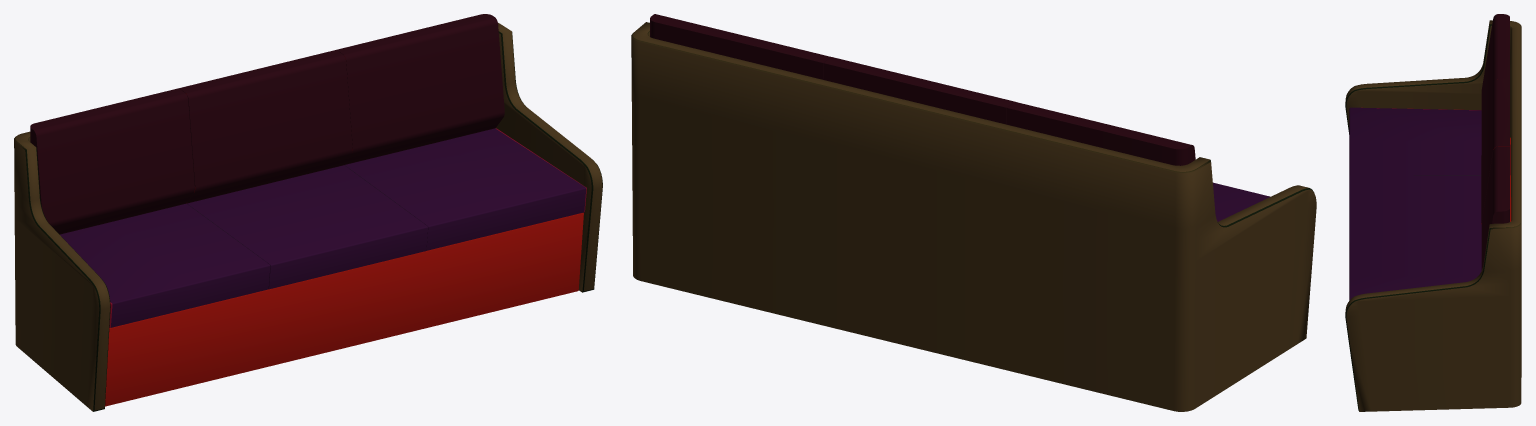
Rendered from sofa_waiting_room_1.glb.
The picture shows the model from 3 angles, left to right: view 1: azimuth 30°, elevation 25°; view 2: azimuth 150°, elevation 25°; view 3: azimuth 270°, elevation 25°; orthographic projection. The views are drawn at different scales.
Parts seen in each view (by area): view 1: Waiting room furniture; view 2: Waiting room furniture; view 3: Waiting room furniture.
Part boxes in pixels (x1=…): Waiting room furniture: x1=14, y1=14, x2=602, y2=411; Waiting room furniture: x1=631, y1=14, x2=1316, y2=411; Waiting room furniture: x1=1345, y1=14, x2=1521, y2=411.
Bounding box in the file's own units: 2.14 × 0.8912 × 0.7405.
